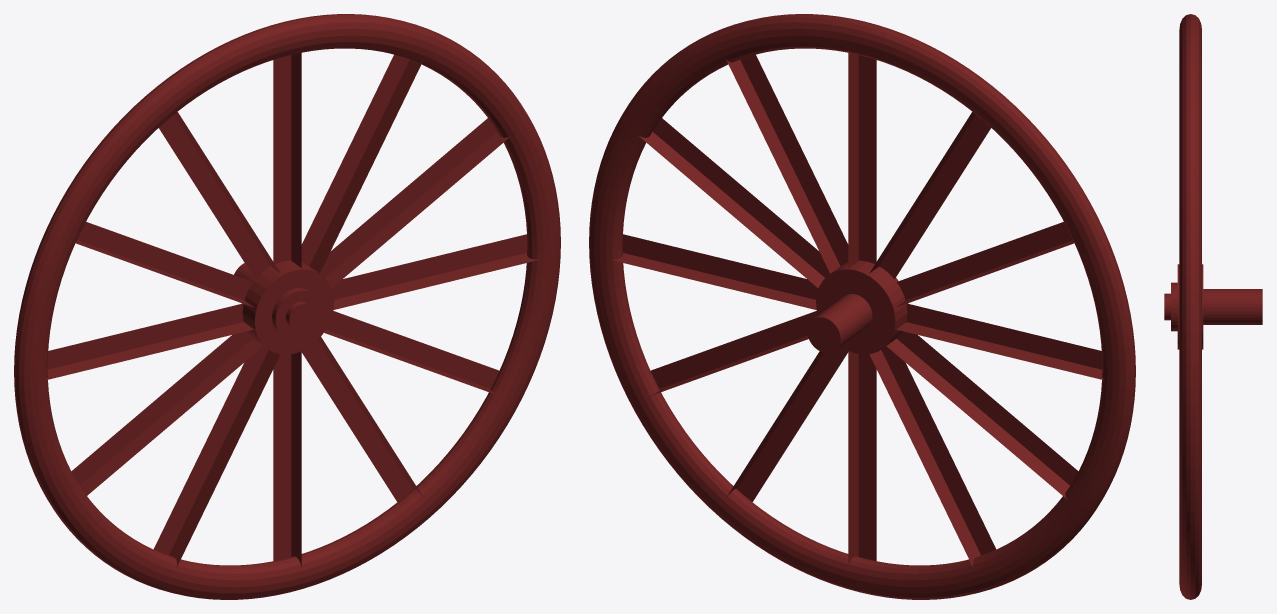
Rendered from wheel.fbx.
3 renders of one model, left to right at view 1: azimuth 30°, elevation 25°; view 2: azimuth 150°, elevation 25°; view 3: azimuth 270°, elevation 25°, orthographic. The views are drawn at different scales.
Visible parts, largest first — view 1: Circle.001; view 2: Circle.001; view 3: Circle.001.
Part boxes in pixels (x1,y1,x2,y2): Circle.001: (14,14,560,599); Circle.001: (589,14,1135,599); Circle.001: (1164,14,1262,599).
Size of the model in its own units: 30.29 by 30.29 by 5.07.
